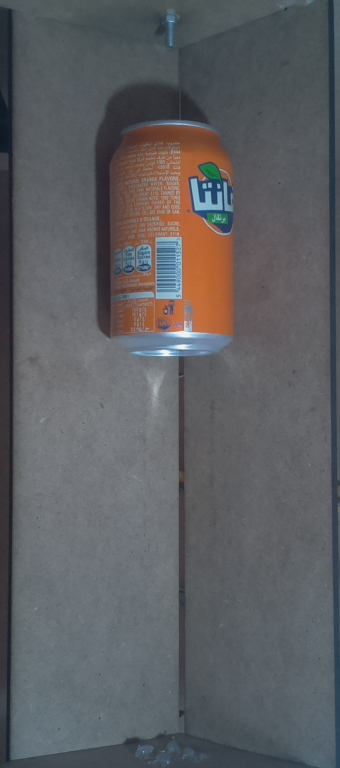Canette: (94, 108, 252, 373)
